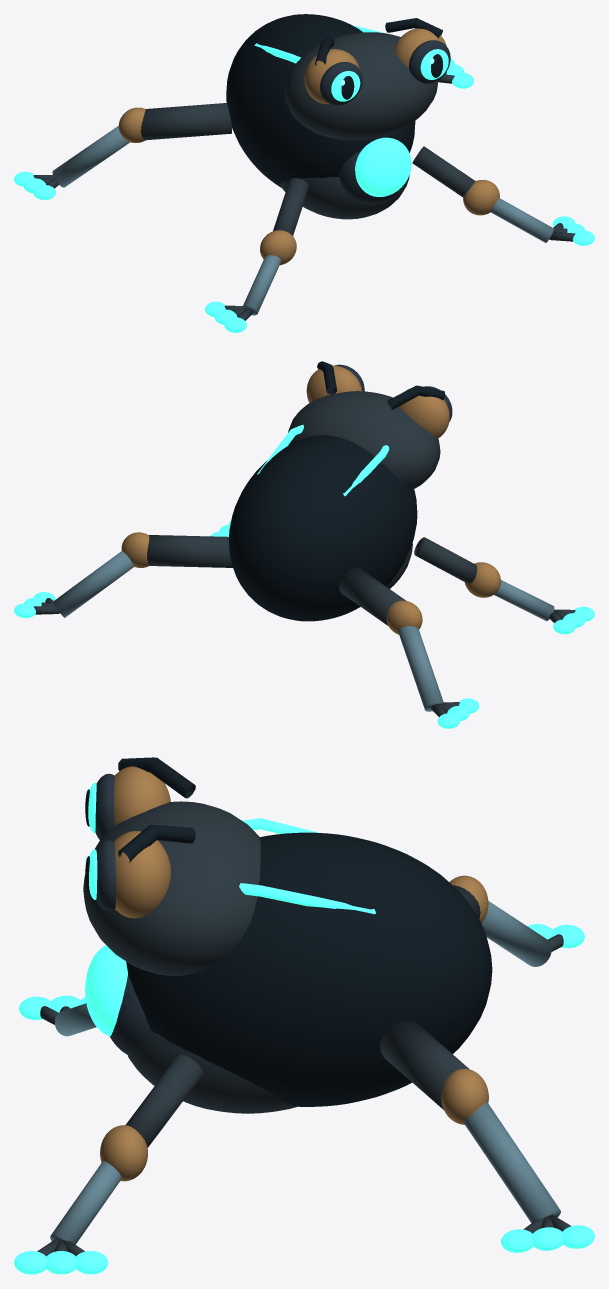
File: frog.glb
The picture shows the model from 3 angles, top to bottom: view 1: azimuth 30°, elevation 25°; view 2: azimuth 150°, elevation 25°; view 3: azimuth 270°, elevation 25°; orthographic projection. The views are drawn at different scales.
Visible parts, largest first — view 1: FROG | Black chrome anatomy, FROG | Raised cranial carapace, FROG | Upper titanium femur-1True, FROG | Jade breathing diaphragm, FROG | Armored graphite belly, FROG | Distal carbon actuator-1True, FROG | Upper titanium femur1False, FROG | Upper titanium femur-1False, FROG | Distal carbon actuator1False, FROG | Eye bronze socket-1, FROG | Distal carbon actuator-1False, FROG | Pivot housing1False (+9 smaller); view 2: FROG | Black chrome anatomy, FROG | Raised cranial carapace, FROG | Upper titanium femur1True, FROG | Distal carbon actuator1True, FROG | Upper titanium femur-1True, FROG | Distal carbon actuator-1True, FROG | Upper titanium femur-1False, FROG | Eye bronze socket-1, FROG | Eye bronze socket1, FROG | Distal carbon actuator-1False, FROG | Pivot housing-1True, FROG | Pivot housing-1False (+2 smaller); view 3: FROG | Black chrome anatomy, FROG | Raised cranial carapace, FROG | Armored graphite belly, FROG | Distal carbon actuator1True, FROG | Upper titanium femur1True, FROG | Eye bronze socket1, FROG | Upper titanium femur1False, FROG | Jade breathing diaphragm, FROG | Distal carbon actuator1False, FROG | Distal carbon actuator-1True, FROG | Eye bronze socket-1, FROG | Pivot housing1False (+9 smaller).
Boxes of the visible parts, x1,y1,x2,y2 form: FROG | Black chrome anatomy: (226,14,415,187); FROG | Raised cranial carapace: (285,32,438,140); FROG | Upper titanium femur-1True: (140,103,231,140); FROG | Jade breathing diaphragm: (355,137,411,196); FROG | Armored graphite belly: (280,175,409,219); FROG | Distal carbon actuator-1True: (52,126,129,187); FROG | Upper titanium femur1False: (412,146,475,197); FROG | Upper titanium femur-1False: (273,178,308,235); FROG | Distal carbon actuator1False: (491,198,553,242); FROG | Eye bronze socket-1: (304,49,359,103); FROG | Distal carbon actuator-1False: (243,255,280,315); FROG | Pivot housing1False: (463,180,499,215); FROG | Black chrome anatomy: (228,435,417,621); FROG | Raised cranial carapace: (288,391,440,489); FROG | Upper titanium femur1True: (147,535,232,567); FROG | Distal carbon actuator1True: (53,551,134,617); FROG | Upper titanium femur-1True: (339,568,406,625); FROG | Distal carbon actuator-1True: (398,626,443,711); FROG | Upper titanium femur-1False: (414,537,477,583); FROG | Eye bronze socket-1: (399,388,449,438); FROG | Eye bronze socket1: (306,365,362,402); FROG | Distal carbon actuator-1False: (494,580,554,620); FROG | Pivot housing-1True: (386,600,422,634); FROG | Pivot housing-1False: (464,562,500,597); FROG | Black chrome anatomy: (126,832,492,1106); FROG | Raised cranial carapace: (83,801,260,975); FROG | Armored graphite belly: (127,1030,297,1113); FROG | Distal carbon actuator1True: (464,1102,560,1222); FROG | Upper titanium femur1True: (380,1021,469,1109); FROG | Eye bronze socket1: (114,831,170,918); FROG | Upper titanium femur1False: (125,1054,203,1147); FROG | Jade breathing diaphragm: (85,945,127,1036); FROG | Distal carbon actuator1False: (50,1161,121,1244); FROG | Distal carbon actuator-1True: (481,901,551,966); FROG | Eye bronze socket-1: (114,766,170,826); FROG | Pivot housing1False: (100,1125,147,1181).
Size of the model in its own units: 4.23 by 2.12 by 3.14.
